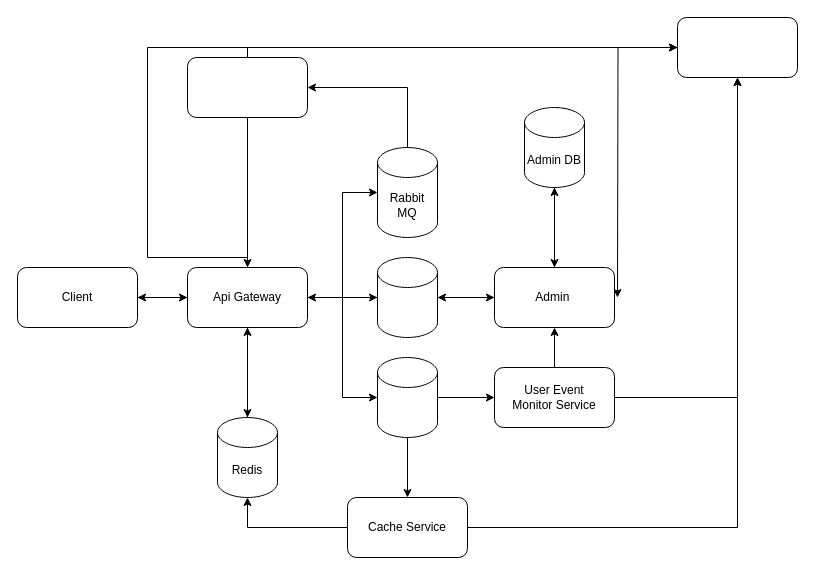
The diagram is 815 pixels wide and 575 high, and some of its shapes have lost their labels. The centre of each missing label's shape, as x and y in pixels:
"Alert Service" goes at pixel 247 87.
"DB" goes at pixel 407 297.
"Kafka" goes at pixel 407 397.
"Service Monitor Service" goes at pixel 737 47.
